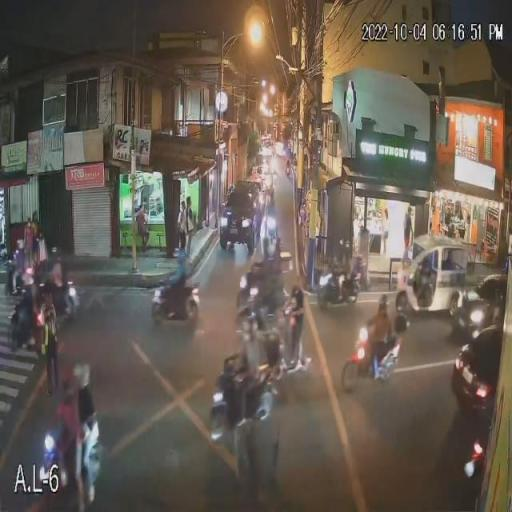helmet: (72, 363, 90, 384), (261, 246, 276, 260), (236, 333, 250, 347), (172, 248, 186, 260), (370, 294, 382, 308)
motorcycle: (208, 354, 284, 444), (38, 424, 104, 511), (341, 323, 402, 394), (235, 277, 284, 341), (150, 276, 202, 330), (10, 285, 48, 356), (316, 267, 361, 309), (47, 278, 79, 324)
rider: (54, 382, 85, 502), (223, 334, 264, 422), (74, 363, 100, 481), (243, 310, 284, 380), (238, 258, 280, 326), (160, 247, 194, 313), (363, 316, 395, 379), (283, 283, 306, 367), (14, 257, 39, 326), (44, 256, 72, 310), (330, 256, 362, 301), (262, 200, 280, 250)
